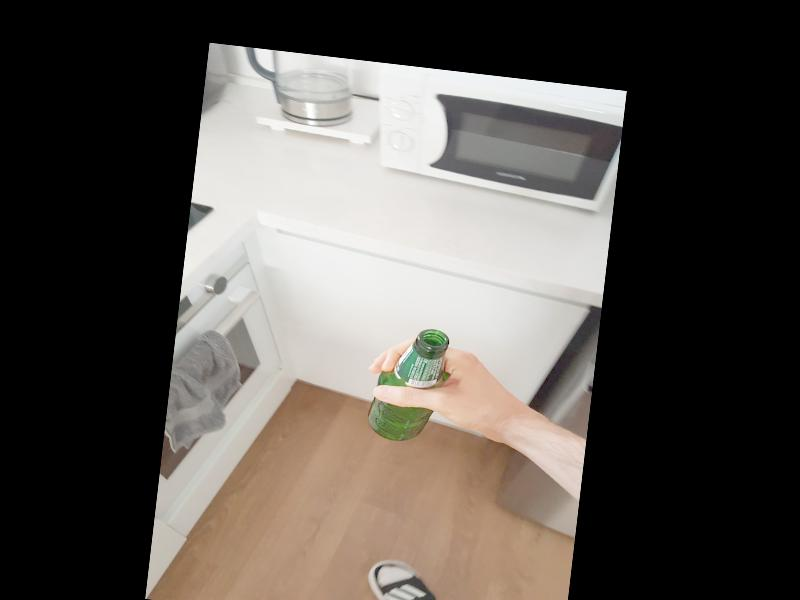Beer: (365, 324, 450, 446)
